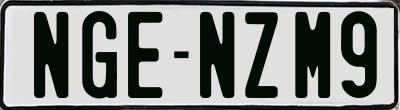9: (339, 9, 379, 96)
E: (126, 9, 162, 100)
G: (80, 9, 119, 97)
M: (294, 10, 330, 98)
N: (32, 11, 68, 100), (200, 11, 234, 103)
Z: (242, 12, 280, 98)
